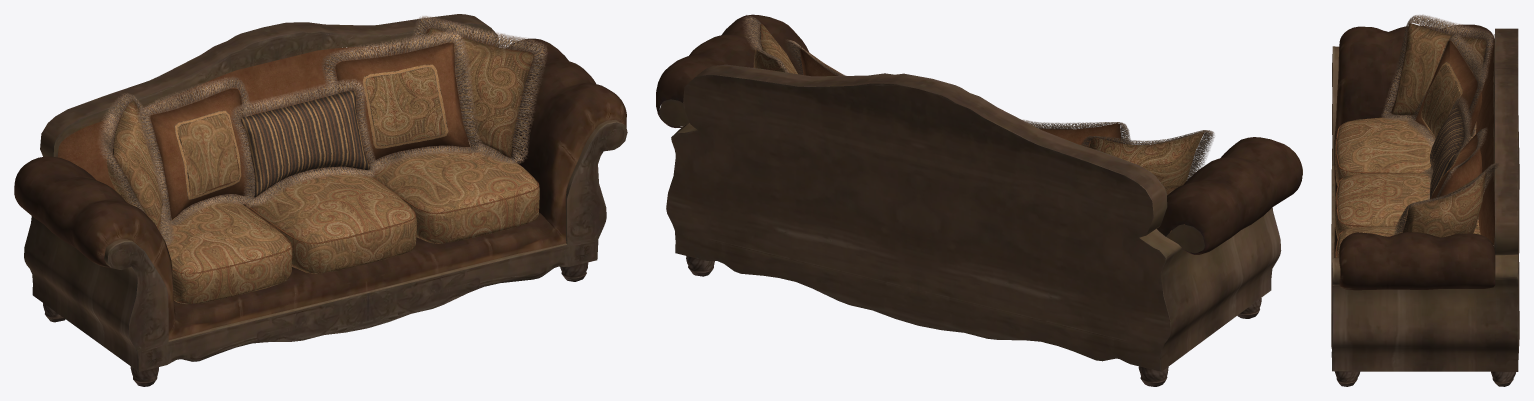
File: sofa-leather.glb
3 views of the same model, side by side, from view 1: azimuth 30°, elevation 25°; view 2: azimuth 150°, elevation 25°; view 3: azimuth 270°, elevation 25° (orthographic). The views are drawn at different scales.
Visible parts, largest first — view 1: Frame, Paisley, Fringe, Brown, Stripes, Frame_Fabric; view 2: Frame, Paisley, Fringe, Brown; view 3: Frame, Paisley, Fringe, Brown, Frame_Fabric, Stripes.
Part boxes in pixels (x1,y1,x2,y2): Frame: (14,14,627,386); Paisley: (107,27,539,304); Fringe: (98,16,547,245); Brown: (150,42,539,274); Stripes: (174,64,448,199); Frame_Fabric: (57,34,494,190); Frame: (656,14,1302,386); Paisley: (753,23,1204,231); Fringe: (743,15,1214,180); Brown: (799,47,1121,147); Frame: (1331,24,1519,386); Paisley: (1335,23,1486,257); Fringe: (1381,14,1498,234); Brown: (1336,40,1482,257); Frame_Fabric: (1476,39,1494,245); Stripes: (1421,61,1471,198).
Bounding box in the file's own units: 2.73 × 1.12 × 0.9225.
Materials: 6 (6 with a texture image).
